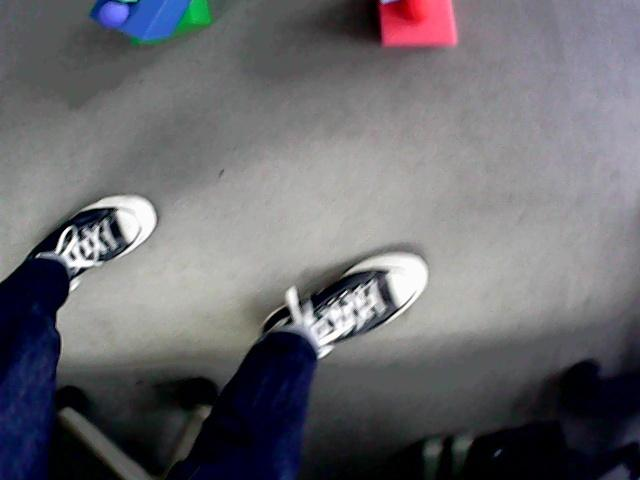blue_block: (117, 0, 190, 40), (119, 0, 190, 40), (89, 0, 106, 21)
red_block: (379, 0, 457, 46)
